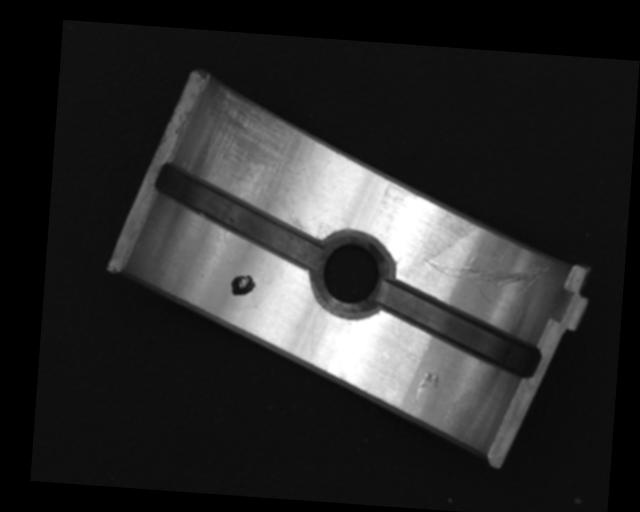blot: (229, 272, 257, 297)
bruise: (413, 370, 441, 404)
gap: (151, 160, 327, 270), (369, 280, 546, 378)
hole: (307, 225, 399, 321)
nick: (417, 253, 553, 310)
scratch: (198, 79, 318, 231)
